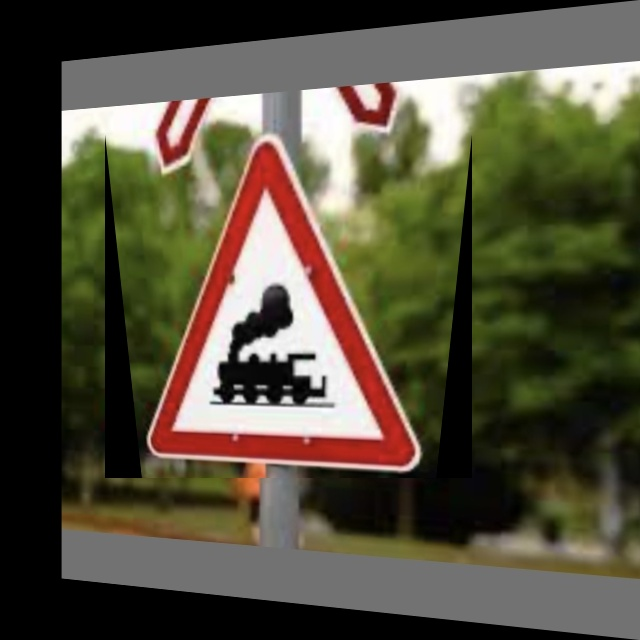Unguarded_Level_Crossing: (105, 134, 472, 478)
